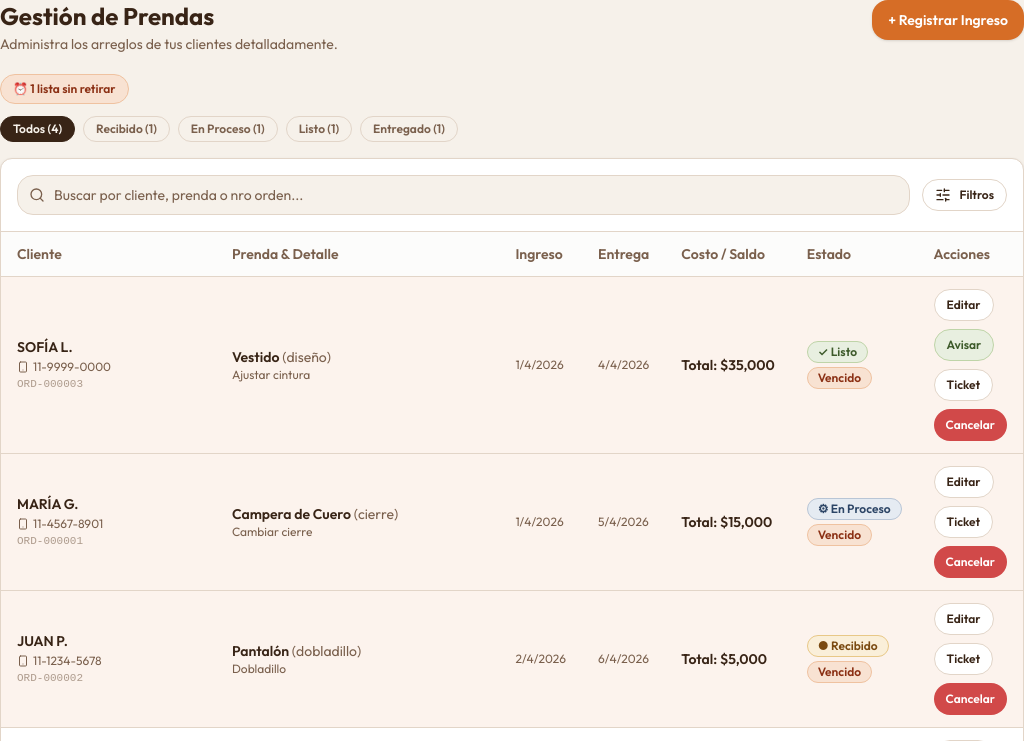
Test: Garments page › opens create modal on button click
Expected: the text "Campera de Cuero (cierre)" is shown, [232,505,398,523]
Step 1. Click the button "+ Registrar Ingreso" → (948, 20), box [872,0,1023,40]
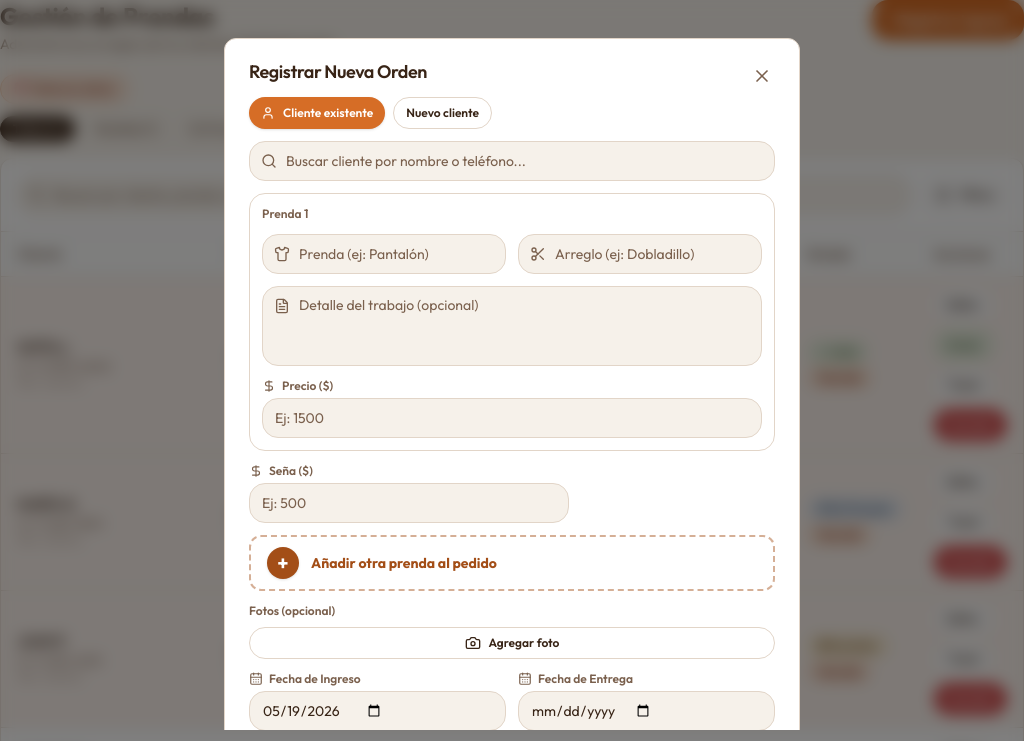
Expected: the heading "Registrar Nueva Orden" is shown, [249,60,427,83]
